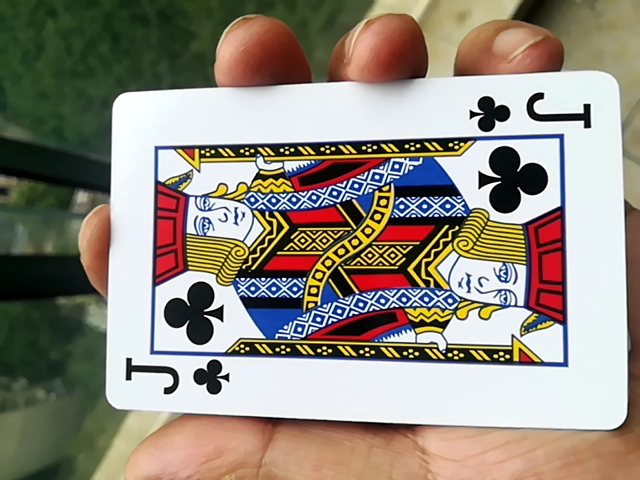mh j: (82, 88, 621, 429)
